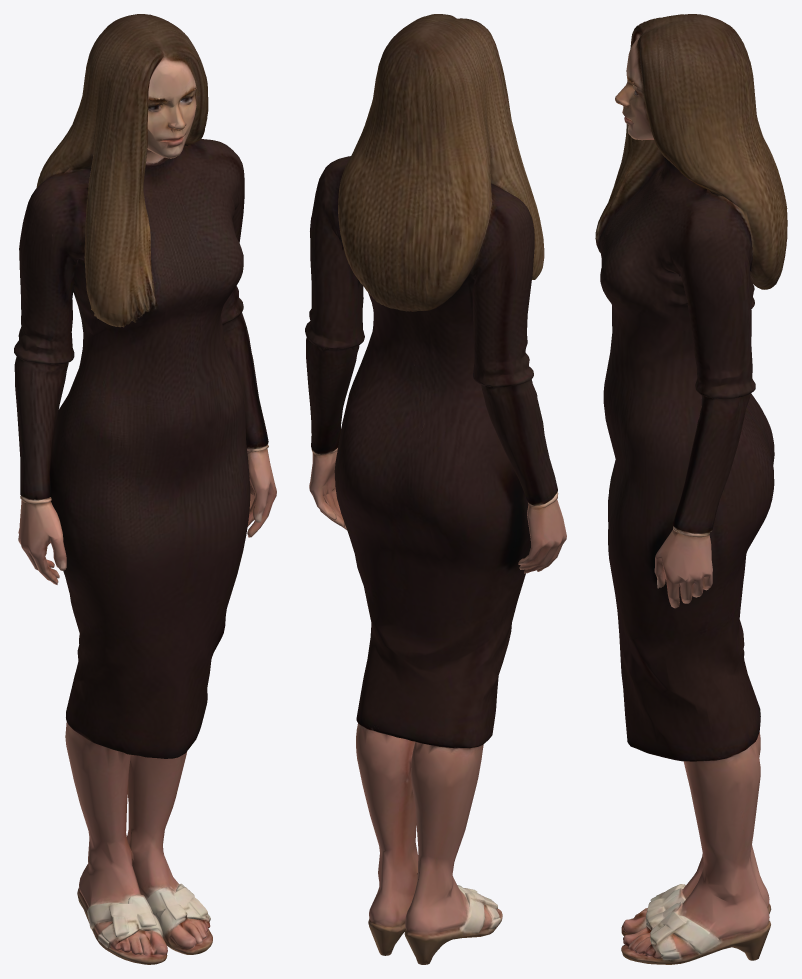
Rendered from charli.glb.
The picture shows the model from 3 angles, left to right: view 1: azimuth 30°, elevation 25°; view 2: azimuth 150°, elevation 25°; view 3: azimuth 270°, elevation 25°; orthographic projection.
Parts seen in each view (by area): view 1: model; view 2: model; view 3: model.
Boxes of the visible parts, x1,y1,x2,y2 form: model: (14,14,276,964); model: (305,14,566,964); model: (595,14,787,964).
Size of the model in its own units: 0.278 by 0.9787 by 0.1835.
1 material, 1 textured.
